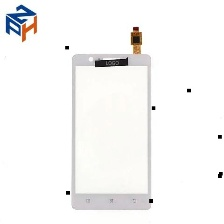phone: (64, 49, 153, 212)
